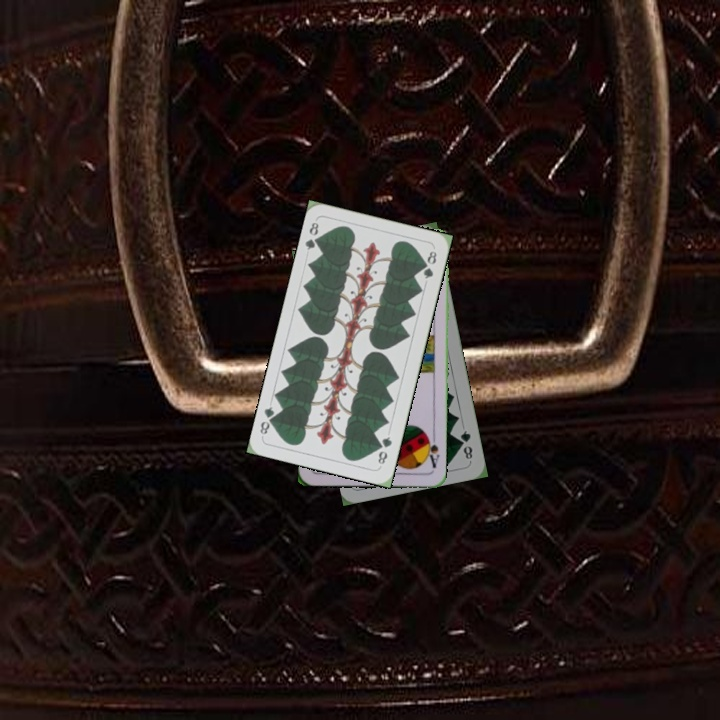G8: (301, 218, 324, 253), (374, 432, 395, 467), (456, 426, 475, 462)
SA: (422, 431, 442, 471)
